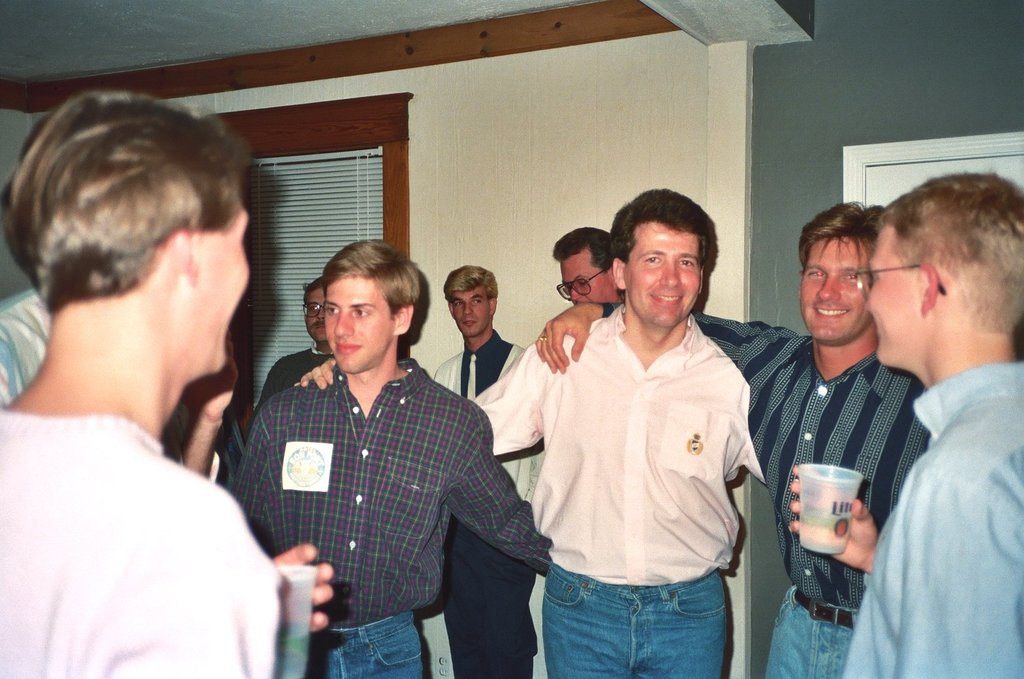Human-face: (175, 211, 253, 375), (800, 236, 874, 348), (626, 225, 698, 326), (866, 233, 920, 367), (325, 278, 391, 375), (561, 251, 616, 305), (451, 288, 493, 334), (305, 292, 325, 338)
